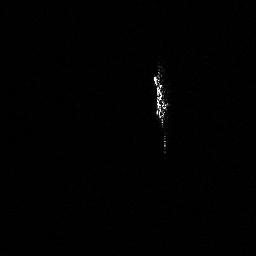ship: (151, 66, 172, 130)
